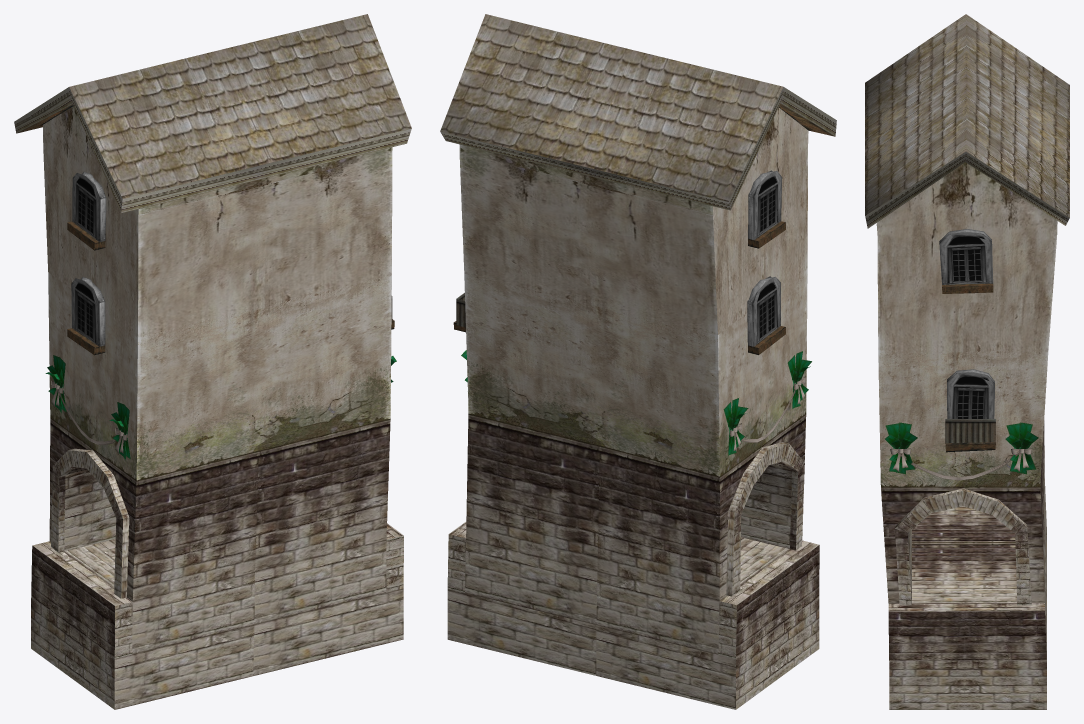
Rendered from english_d.fbx.
The picture shows the model from 3 angles, left to right: view 1: azimuth 30°, elevation 25°; view 2: azimuth 150°, elevation 25°; view 3: azimuth 270°, elevation 25°; orthographic projection. The views are drawn at different scales.
Visible parts, largest first — view 1: building_shell, building_shell1, window_07, window_06; view 2: building_shell, building_shell1, window_07, window_06; view 3: building_shell, building_shell1, window_04, window_05, railing, decoRibbon_1.
Part boxes in pixels (x1,y1,x2,y2): building_shell: (14, 14, 411, 709); building_shell1: (32, 523, 403, 605); window_07: (67, 277, 105, 355); window_06: (67, 171, 106, 250); building_shell: (440, 14, 836, 709); building_shell1: (449, 522, 819, 605); window_07: (747, 276, 785, 354); window_06: (748, 170, 785, 248); building_shell: (865, 14, 1069, 709); building_shell1: (888, 479, 1044, 611); window_04: (939, 228, 993, 293); window_05: (947, 369, 994, 418); railing: (945, 419, 995, 443); decoRibbon_1: (898, 452, 1019, 480).
Size of the model in its own units: 3222 by 5816 by 1925.
Materials: 3 (3 with a texture image).
